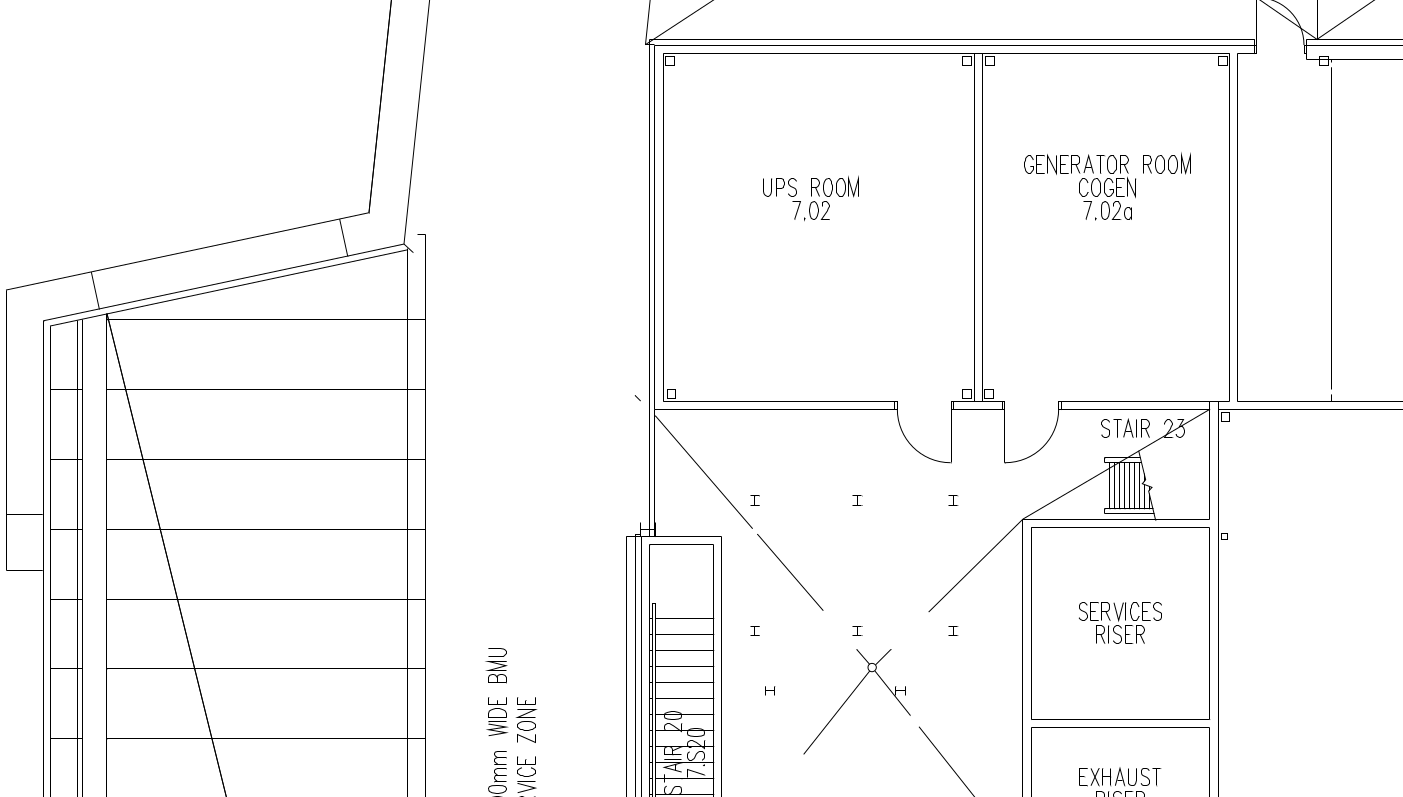door: (896, 398, 957, 469), (1000, 399, 1061, 470), (1247, 1, 1308, 71)
